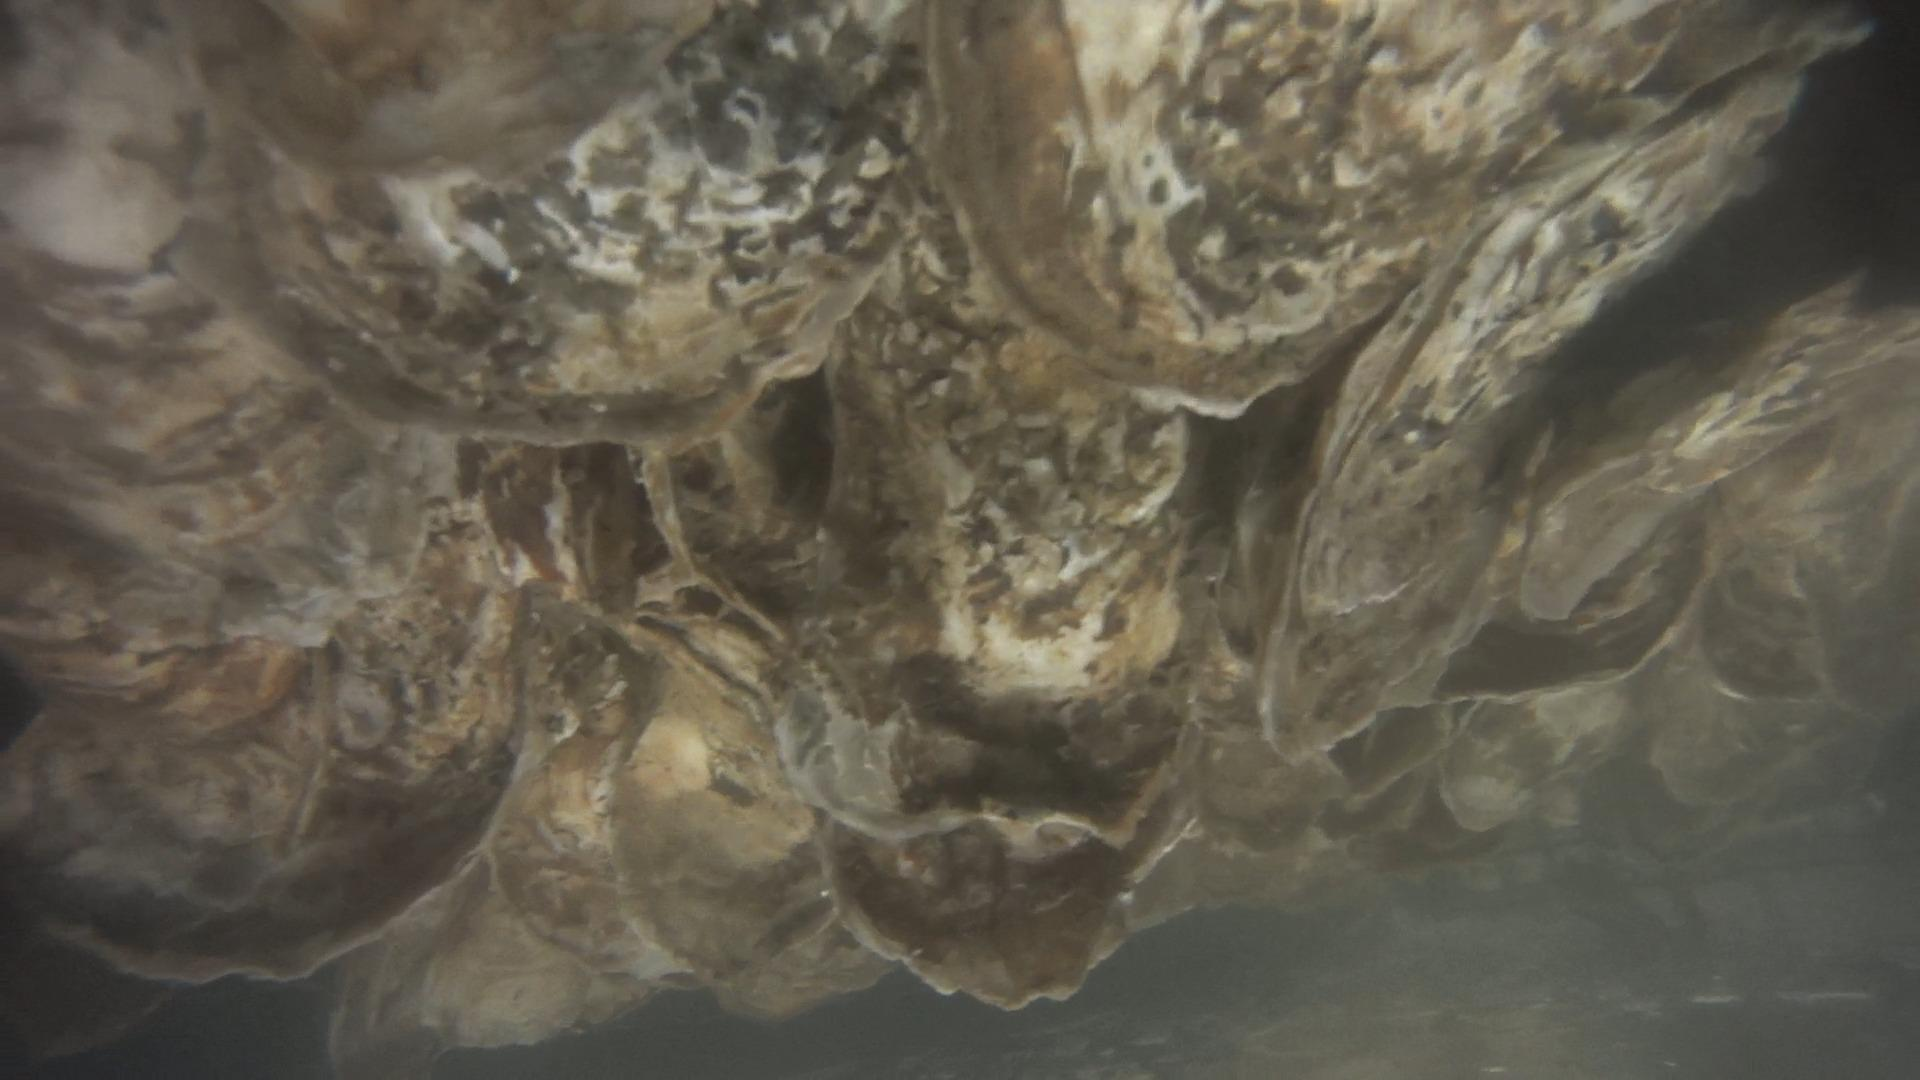3: (1244, 119, 1754, 764)
Oyster-Closed: (1524, 307, 1898, 621)
Oyster-Open: (0, 0, 533, 1004), (444, 227, 1201, 849), (906, 0, 1879, 433), (181, 0, 895, 465), (823, 771, 1200, 1005), (485, 597, 687, 986), (330, 856, 649, 1077), (613, 663, 829, 982), (1461, 527, 1701, 702), (1437, 702, 1545, 829)
